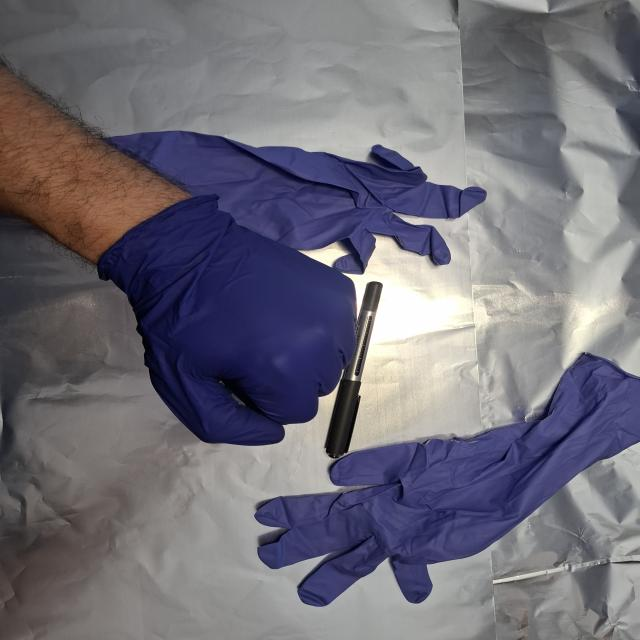glove_on: (104, 192, 364, 448)
